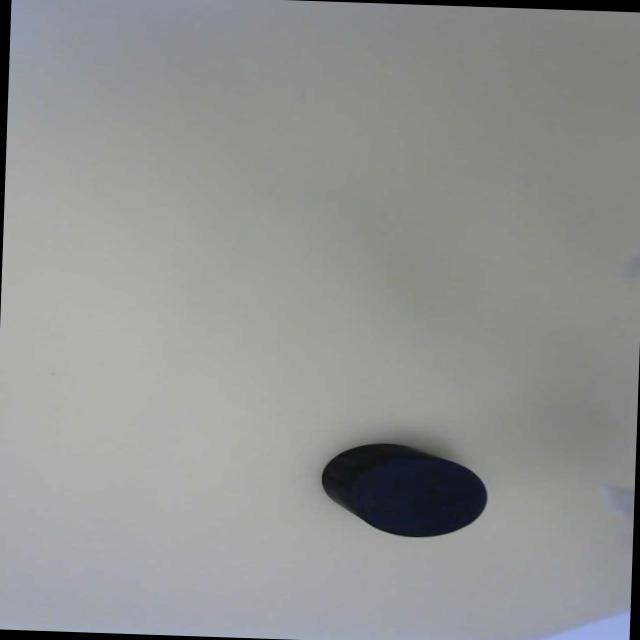circle: (349, 454, 488, 537)
